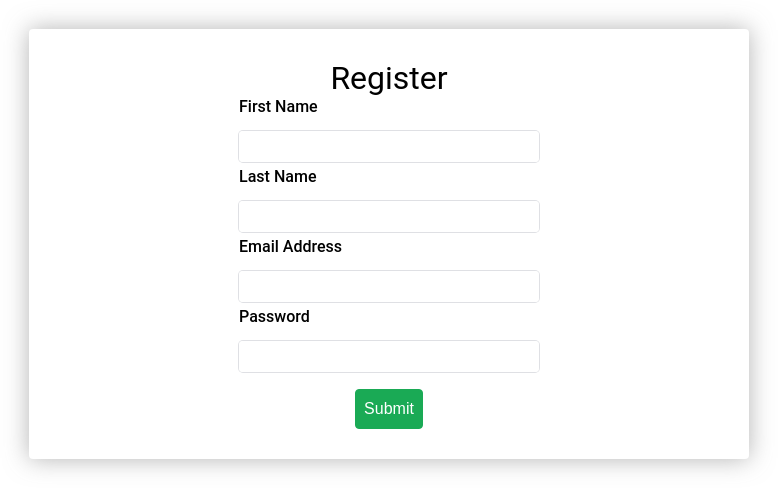
Test case: Registration Form tests › Failure test
In the field with test id "formFirstName": (389,146) [239, 131, 539, 162], type "krishnakanth Muthukuru"
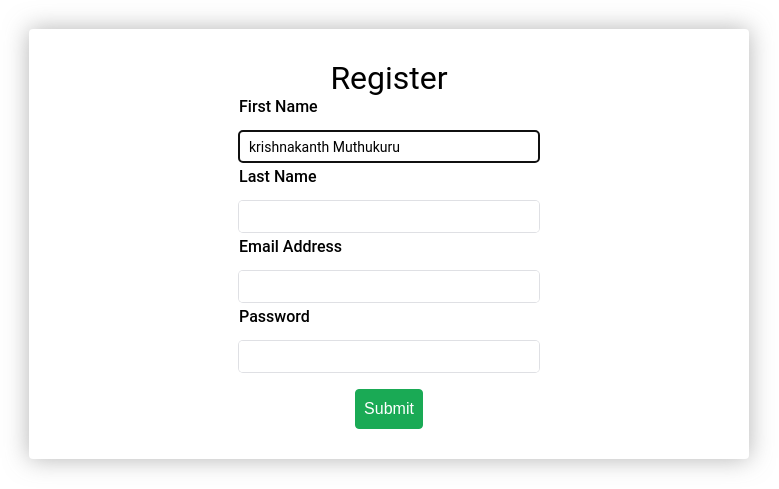
In the field with test id "formLastName": (389,216) [239, 201, 539, 232], type "krishnakanth Muthukuru"
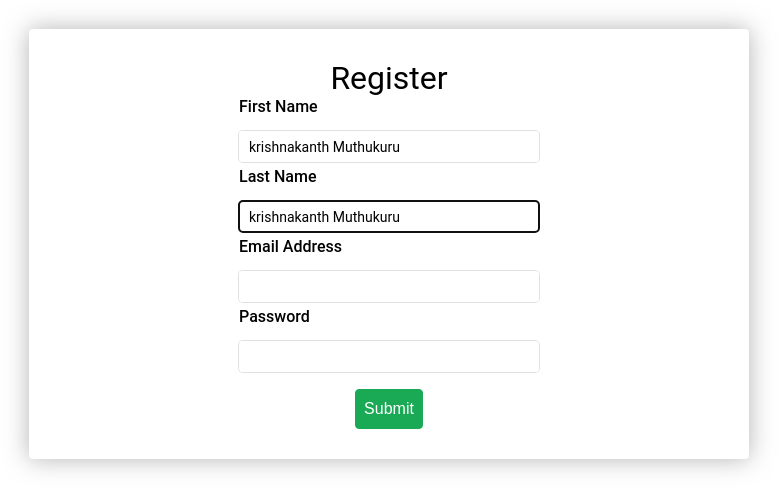
In the field with test id "formEmail": (389,286) [239, 271, 539, 302], type "krishna@.com"
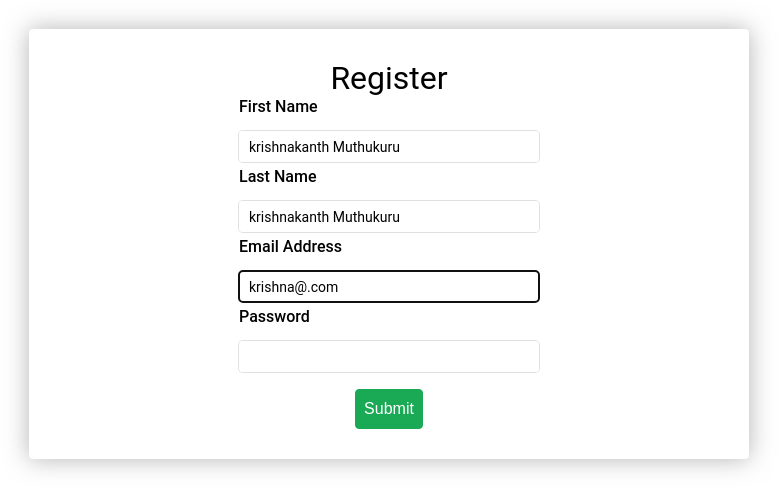
In the password field with test id "formPassword": (389,356) [239, 341, 539, 372], type "pass"
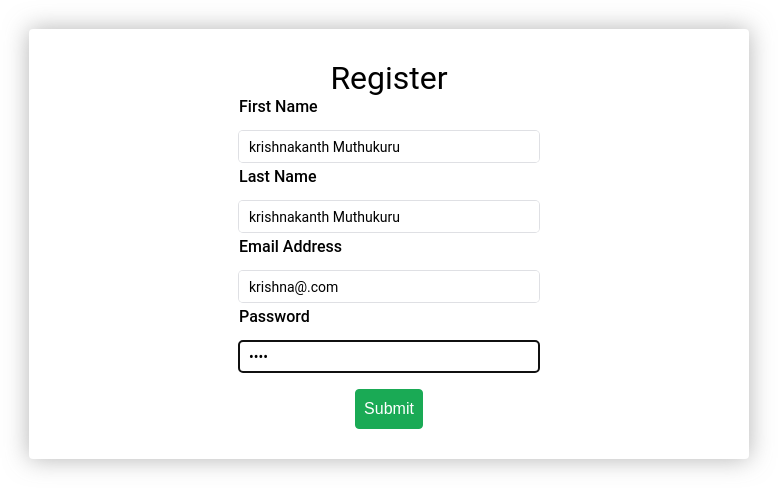
Click the button with test id "formSubmitButton": (389,409) [355, 389, 423, 429]
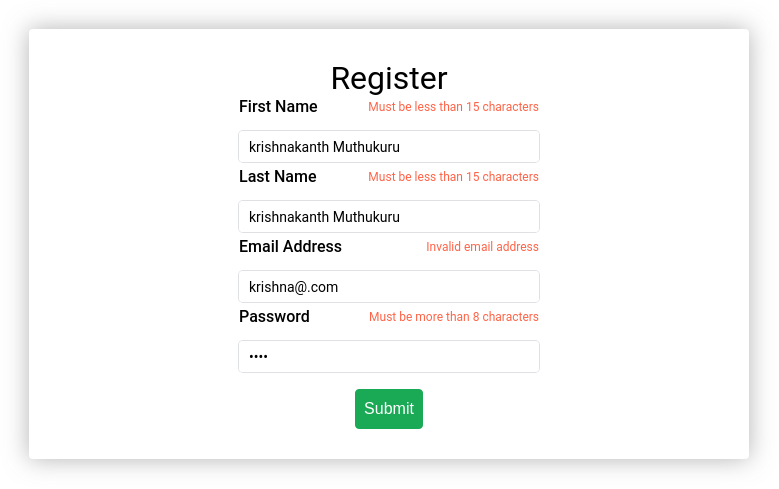
Result: the text with test id "errorFirstName" reads "Must be less than 15 characters" at [368, 100, 539, 114]
Result: the text with test id "errorLastName" reads "Must be less than 15 characters" at [368, 170, 539, 184]
Result: the text with test id "errorEmail" reads "Invalid email address" at [426, 240, 539, 254]
